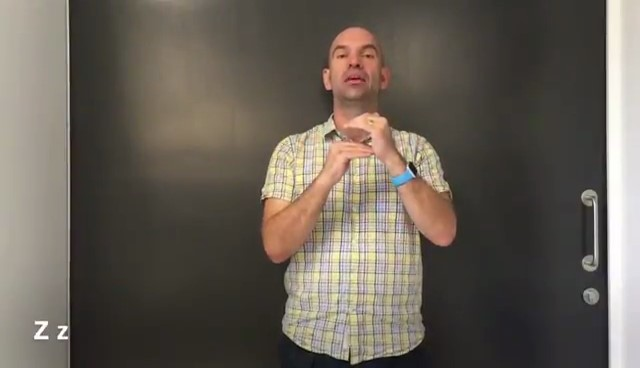Z: (318, 106, 404, 175)
